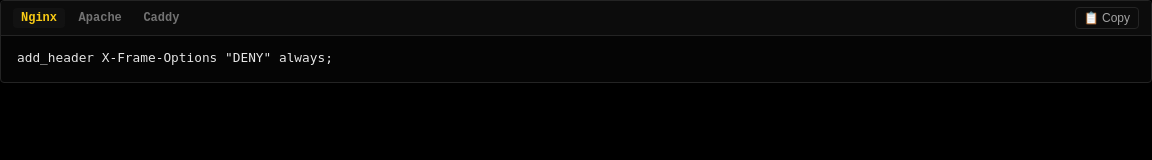
Test case: CodeSnippet Component › renders multi-server configuration tabs and code snippet with copy interaction
Expected: the tab "Nginx" is shown, 13,8 -> 65,28
Expected: the tab "Caddy" is shown, 135,8 -> 187,28
Click the tab "Apache". click: (100, 18)
box: 71,8 -> 130,28
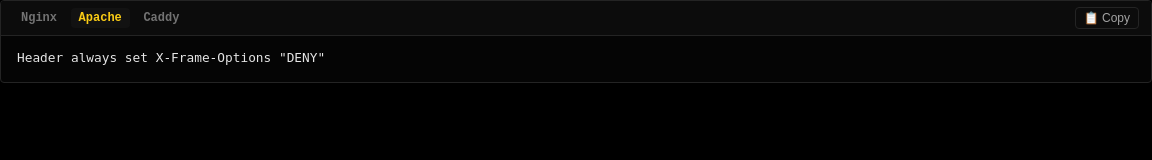
Result: the text "Header always set X-Frame-Options \"DENY\"" is shown at 17,50 -> 325,65
